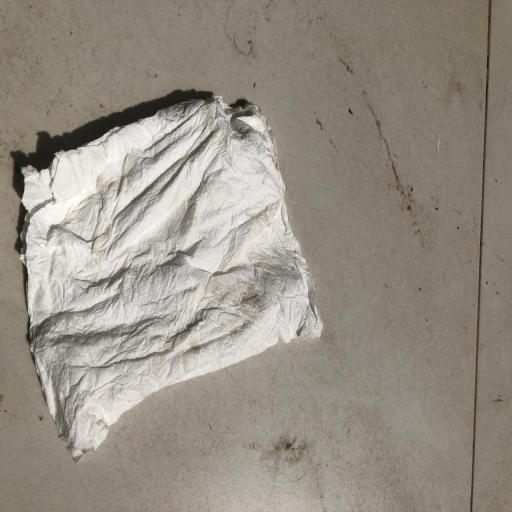waste: (14, 84, 329, 470)
